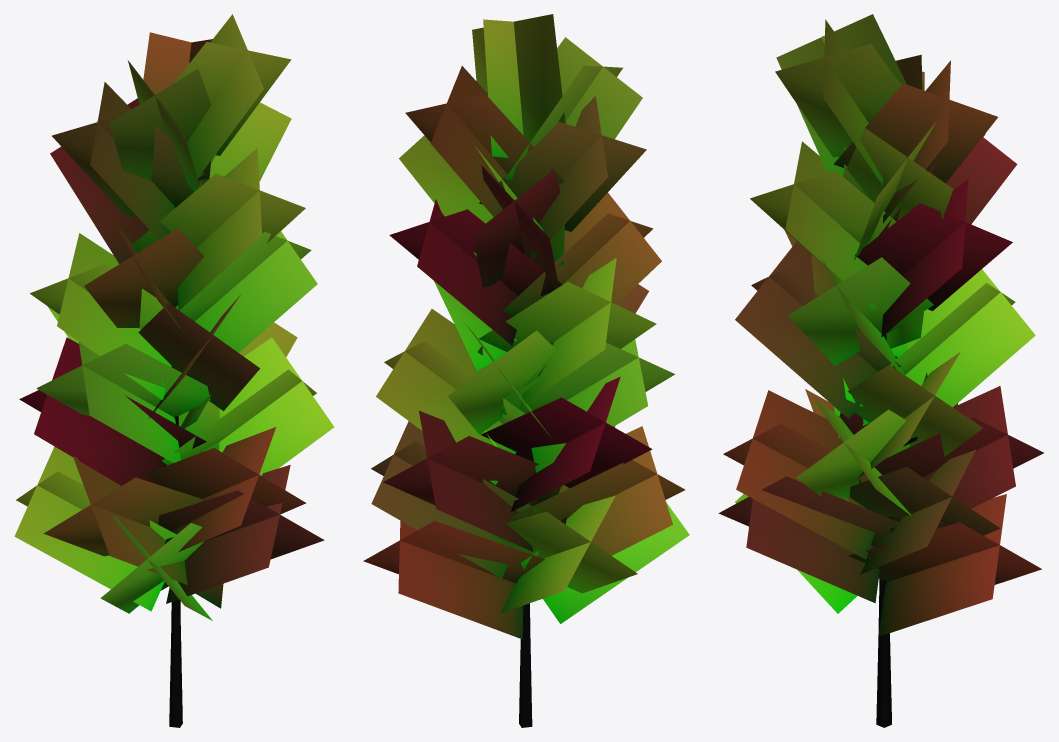
File: SuperTree_14.fbx
3 views of the same model, side by side, from view 1: azimuth 30°, elevation 25°; view 2: azimuth 150°, elevation 25°; view 3: azimuth 270°, elevation 25° (orthographic). The views are drawn at different scales.
Visible parts, largest first — view 1: SuperTree_14; view 2: SuperTree_14; view 3: SuperTree_14.
Part boxes in pixels (bbox=[...]): SuperTree_14: bbox=[14, 14, 334, 727]; SuperTree_14: bbox=[363, 14, 689, 727]; SuperTree_14: bbox=[718, 14, 1043, 727].
Bounding box in the file's own units: 510 × 1233 × 517.
